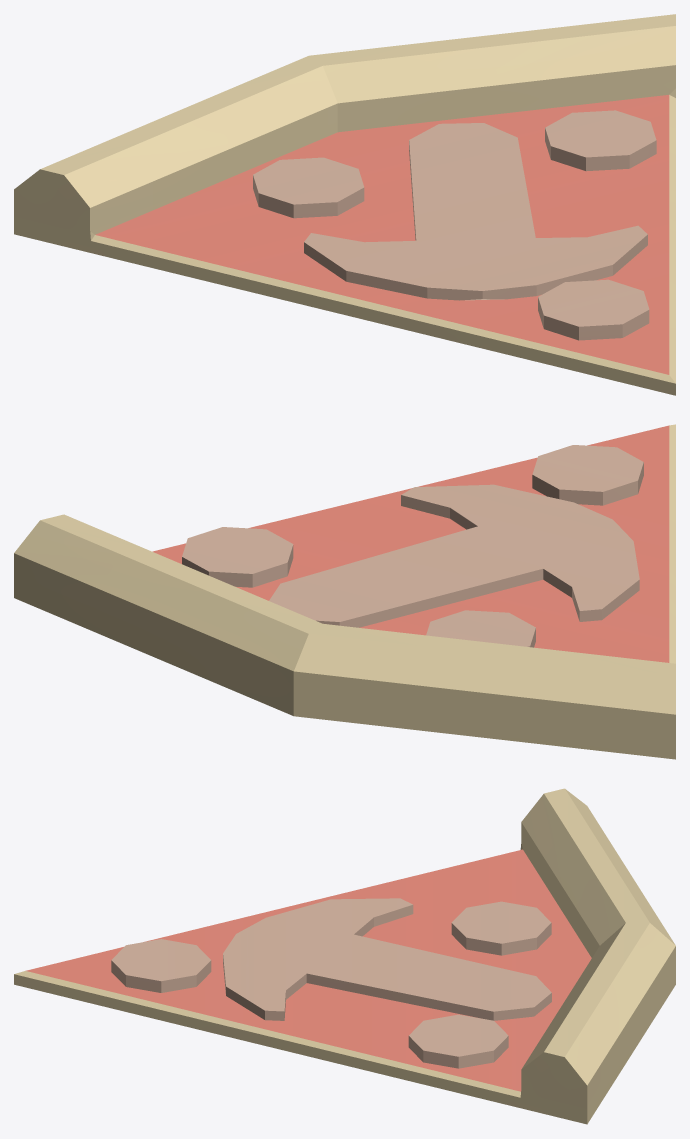
File: pizza-mushrooms-slice.glb
3 renders of one model, top to bottom at view 1: azimuth 30°, elevation 25°; view 2: azimuth 150°, elevation 25°; view 3: azimuth 270°, elevation 25°, orthographic. The views are drawn at different scales.
Visible parts, largest first — view 1: PizzaMushroomsSlice.001; view 2: PizzaMushroomsSlice.001; view 3: PizzaMushroomsSlice.001.
Part boxes in pixels (bbox=[...]): PizzaMushroomsSlice.001: bbox=[14, 14, 675, 395]; PizzaMushroomsSlice.001: bbox=[14, 424, 675, 759]; PizzaMushroomsSlice.001: bbox=[14, 788, 675, 1124].
Bounding box in the file's own units: 0.298 × 0.0307 × 0.298.
Materials: 1 (1 with a texture image).
